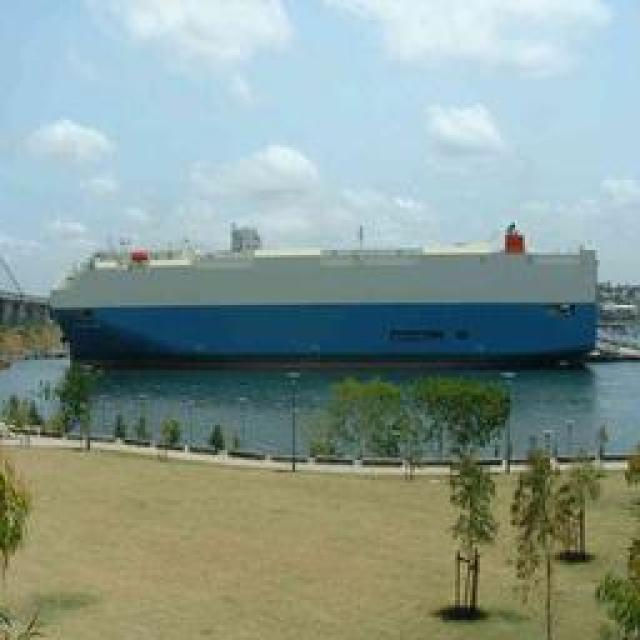ship2: (48, 221, 602, 370)
